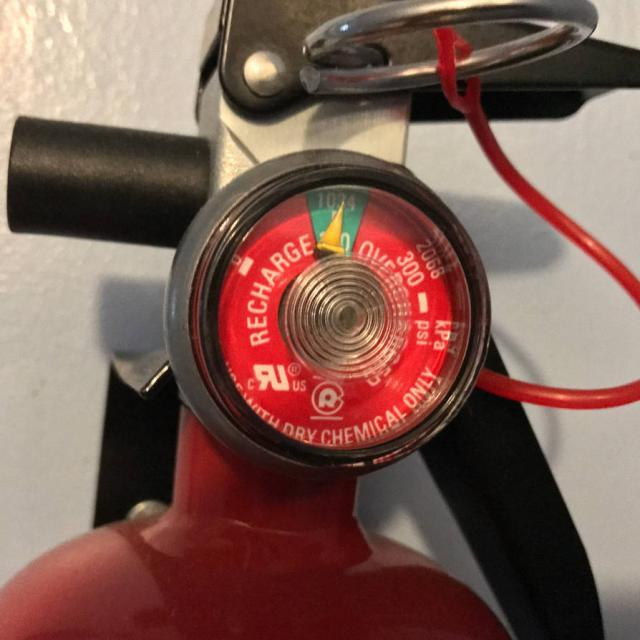pressure gauge: (168, 150, 489, 470)
